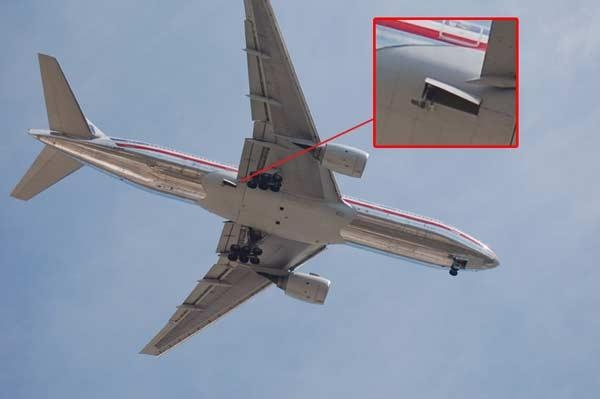airplane: (6, 11, 503, 372)
